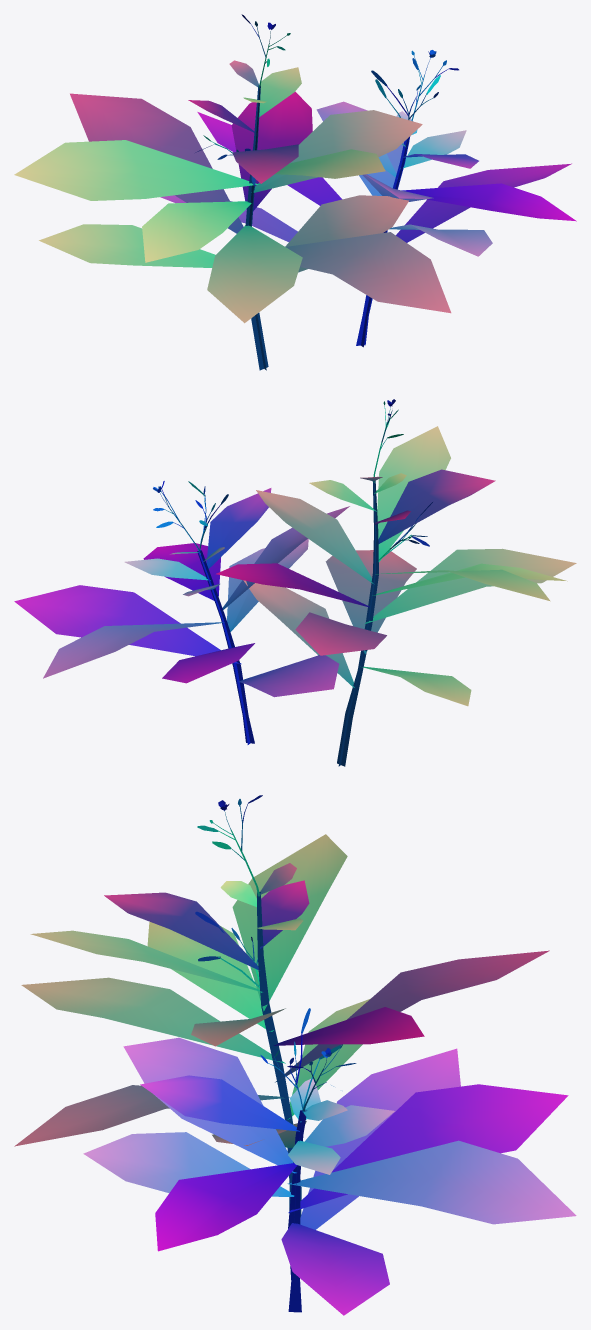
File: xefmcgrqx_VarE_LOD0.fbx
The picture shows the model from 3 angles, top to bottom: view 1: azimuth 30°, elevation 25°; view 2: azimuth 150°, elevation 25°; view 3: azimuth 270°, elevation 25°; orthographic projection. The views are drawn at different scales.
Parts seen in each view (by area): view 1: _8slz_VarE_LOD3; view 2: _8slz_VarE_LOD3; view 3: _8slz_VarE_LOD3.
Boxes of the visible parts, <box> form: _8slz_VarE_LOD3: <box>14,14,576,370</box>; _8slz_VarE_LOD3: <box>14,399,576,766</box>; _8slz_VarE_LOD3: <box>14,795,576,1315</box>.
Size of the model in its own units: 64.98 by 41.16 by 47.49.
